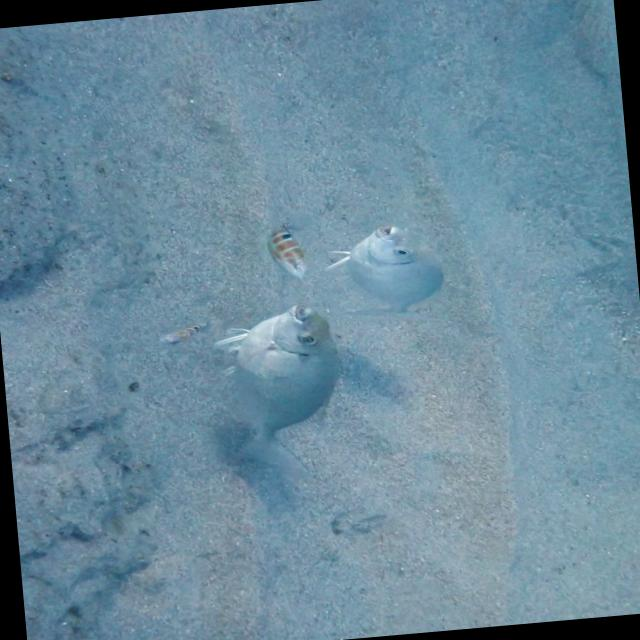Sokar Baligi: (194, 296, 358, 478), (317, 206, 453, 331)
